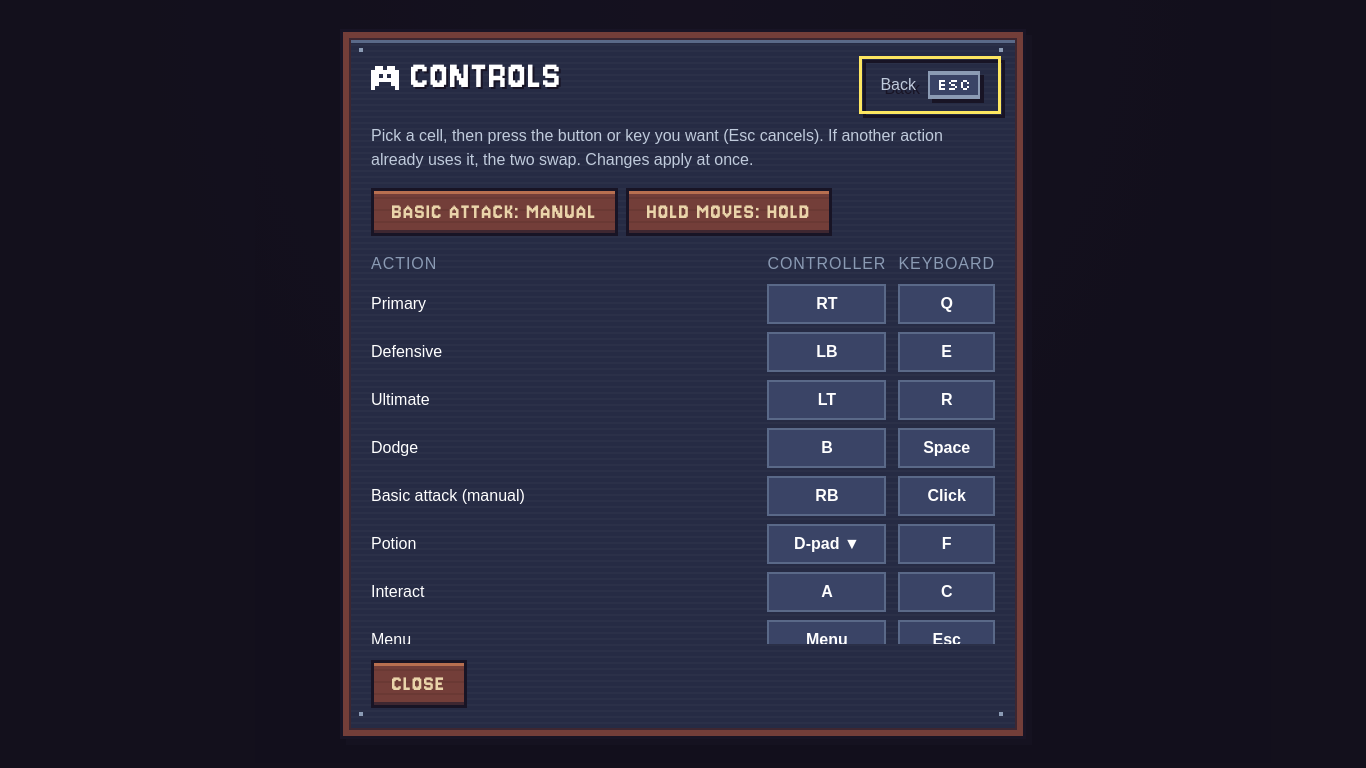
ControlsPanel › Esc cancels a key capture
Click the button with test id "bind-key-potion" at x=947, y=544, box [898,524,995,564]
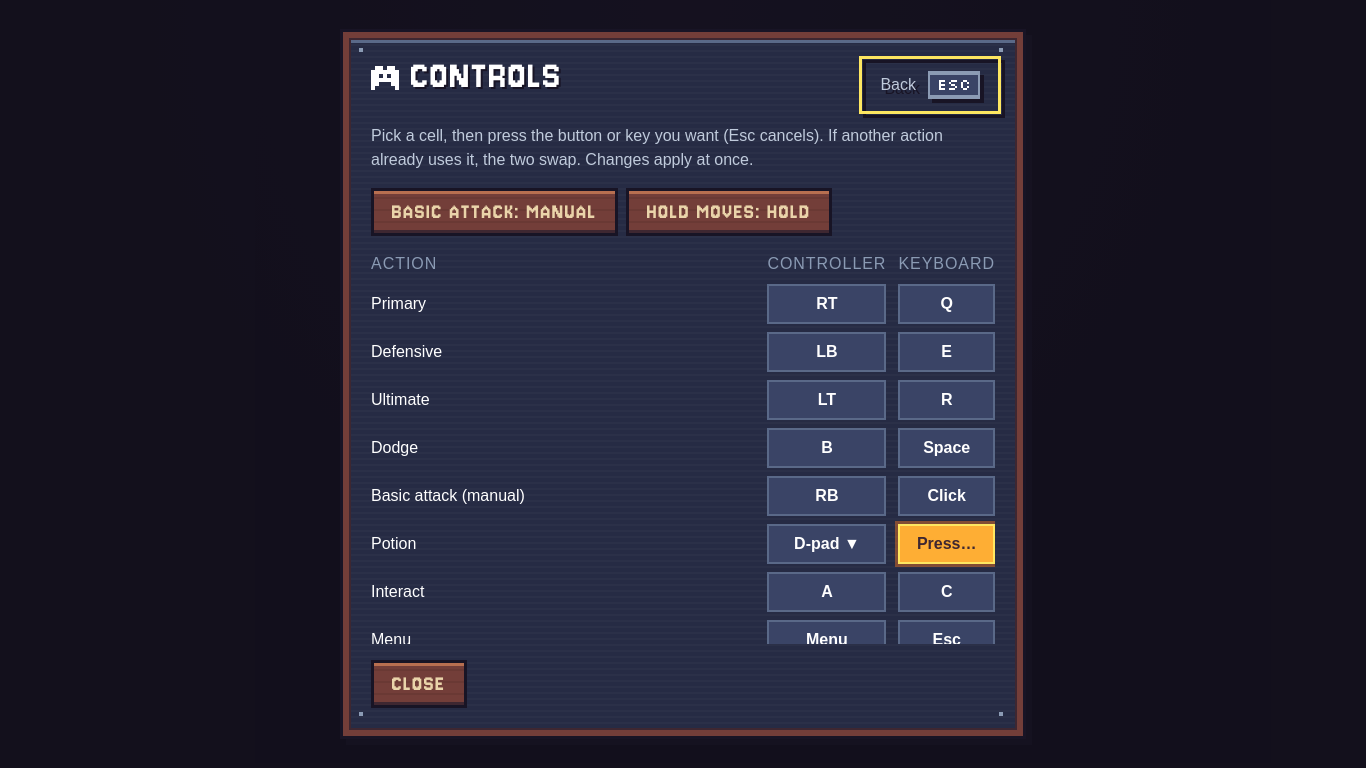
Press Escape
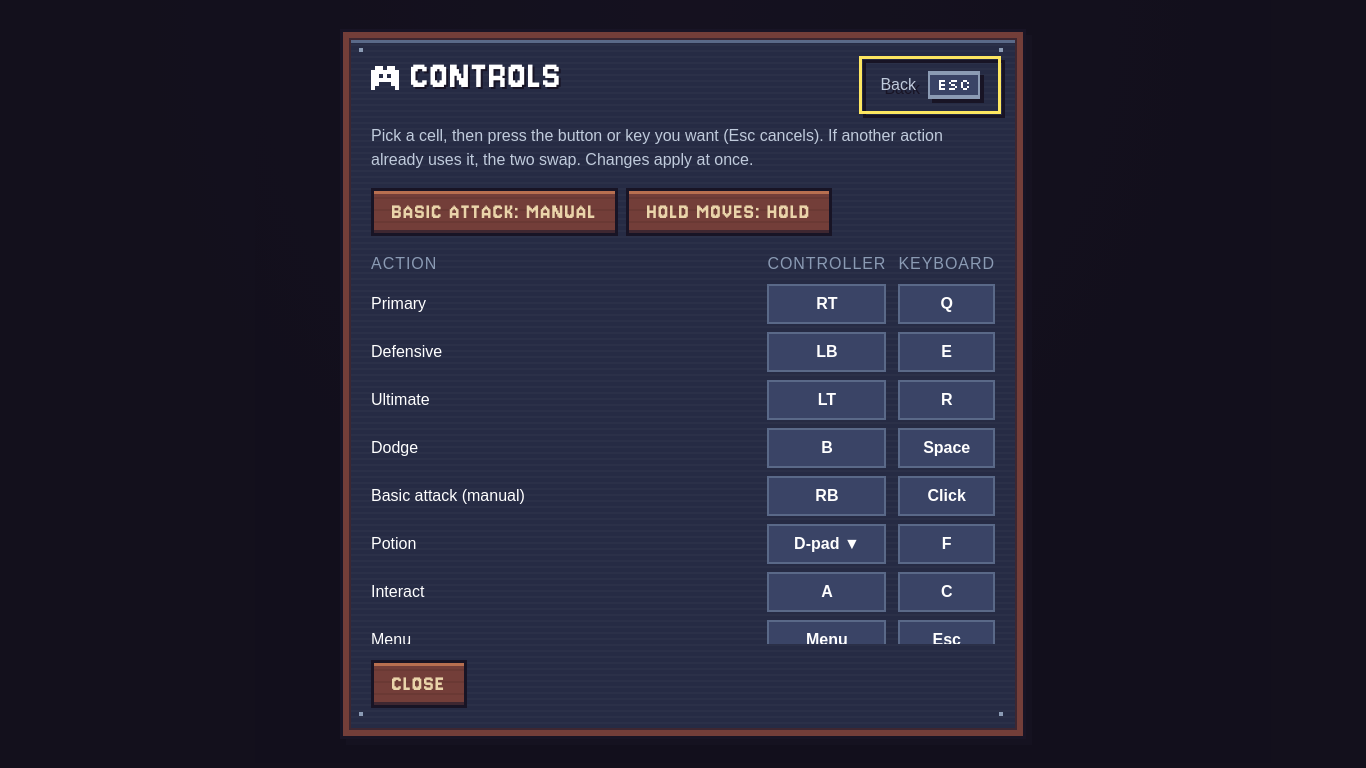
Expected: the button with test id "bind-key-potion" reads "F", [898,524,995,564]
